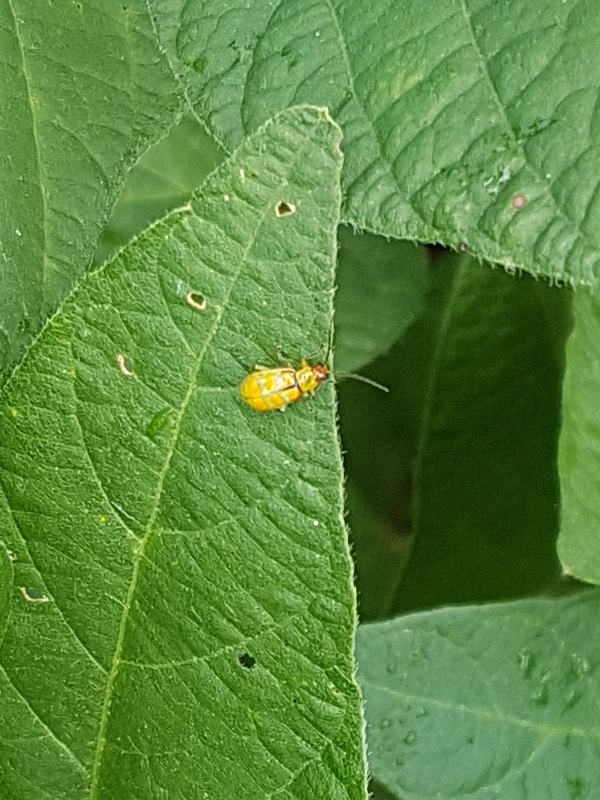Diabrotica_speciosa: (208, 317, 388, 451)
